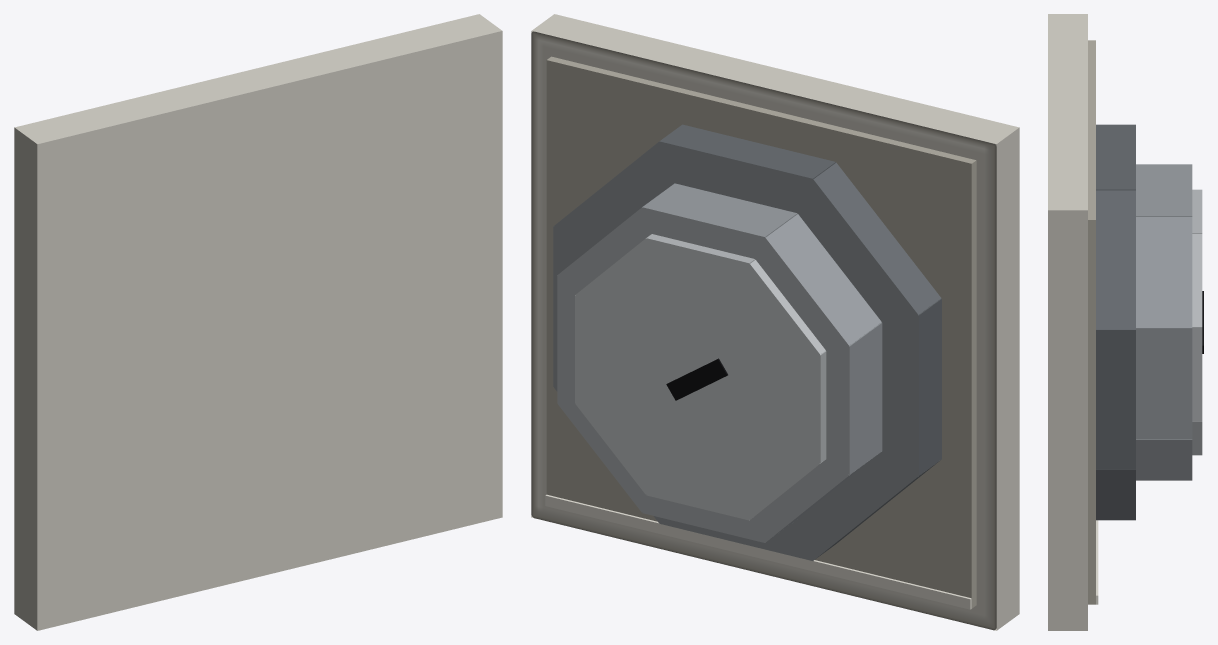
The model's file is key_switch_open_nokey.obj.
The picture shows the model from 3 angles, left to right: view 1: azimuth 30°, elevation 25°; view 2: azimuth 150°, elevation 25°; view 3: azimuth 270°, elevation 25°; orthographic projection. The views are drawn at different scales.
Visible parts, largest first — view 1: Panel; view 2: Knob, Panel; view 3: Knob, Panel.
Boxes of the visible parts, left/top/right/bottom form: Panel: left=14, top=14, right=502, bottom=630; Knob: left=553, top=124, right=941, bottom=560; Panel: left=531, top=14, right=1019, bottom=630; Knob: left=1096, top=124, right=1203, bottom=520; Panel: left=1048, top=14, right=1098, bottom=630.
Bounding box in the file's own units: 0.875 × 0.875 × 0.2937.
Materials: 1 (1 with a texture image).
